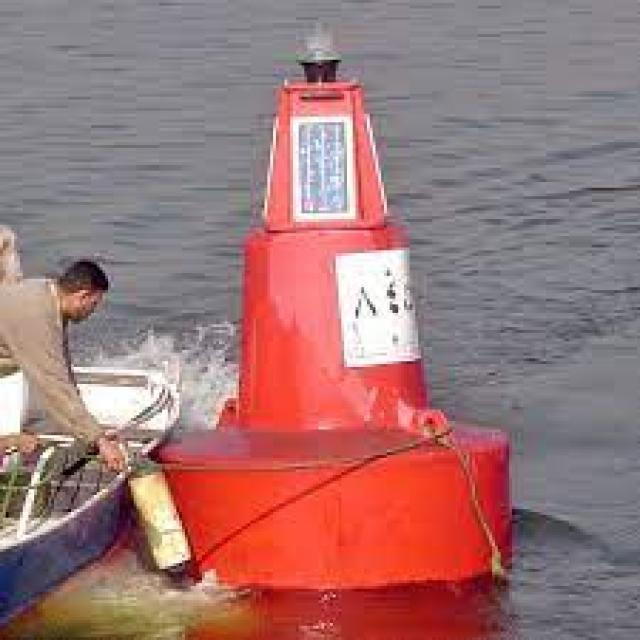buoy: (169, 14, 527, 595)
